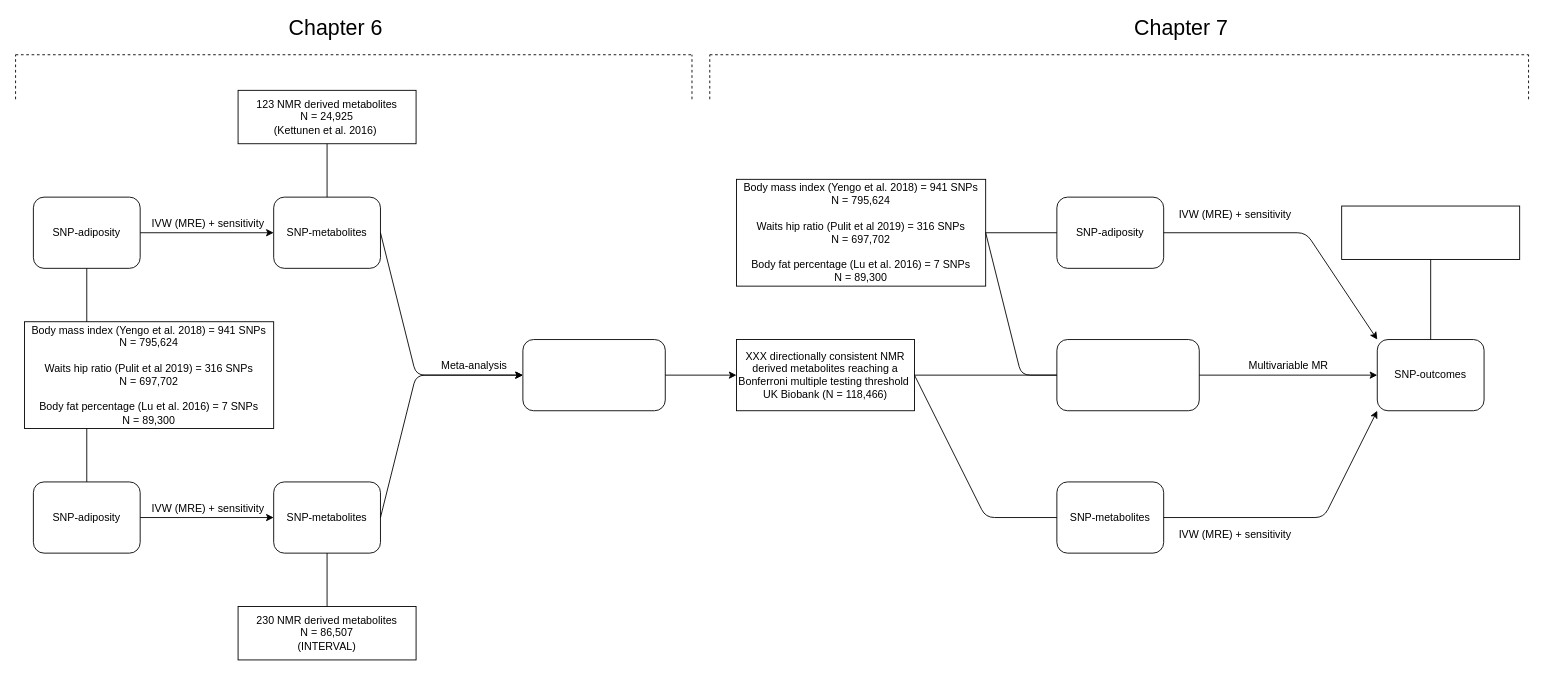
Image size: 1545x676. Some labels were removed from this diagram. The shapes that lost their labels are listed below. From the top down, each one's centre as x and y in pixels, then its label:
At (1430,232): "Chapter 2: Systematic review and meta analysis".
At (593,375): "110 NMR derived metabolites N = 111,432".
At (1127,375): "SNP-adiposity-metabolites".
